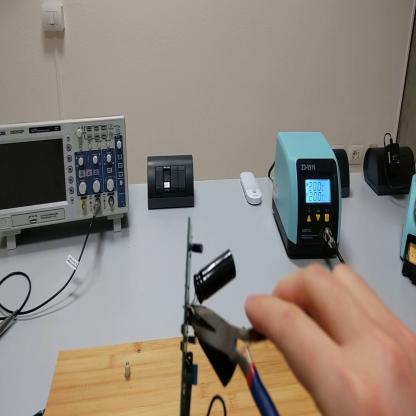hand: (248, 263, 416, 415)
high voltage board: (180, 216, 241, 415)
oscilloscope: (3, 116, 129, 251)
oscilloscope probe tip: (2, 311, 18, 335)
pliers: (189, 304, 283, 415)
socket: (364, 141, 416, 201), (335, 149, 352, 198)
welder base: (400, 174, 416, 288)
welder station: (269, 132, 342, 263)
working area: (44, 339, 323, 416)
